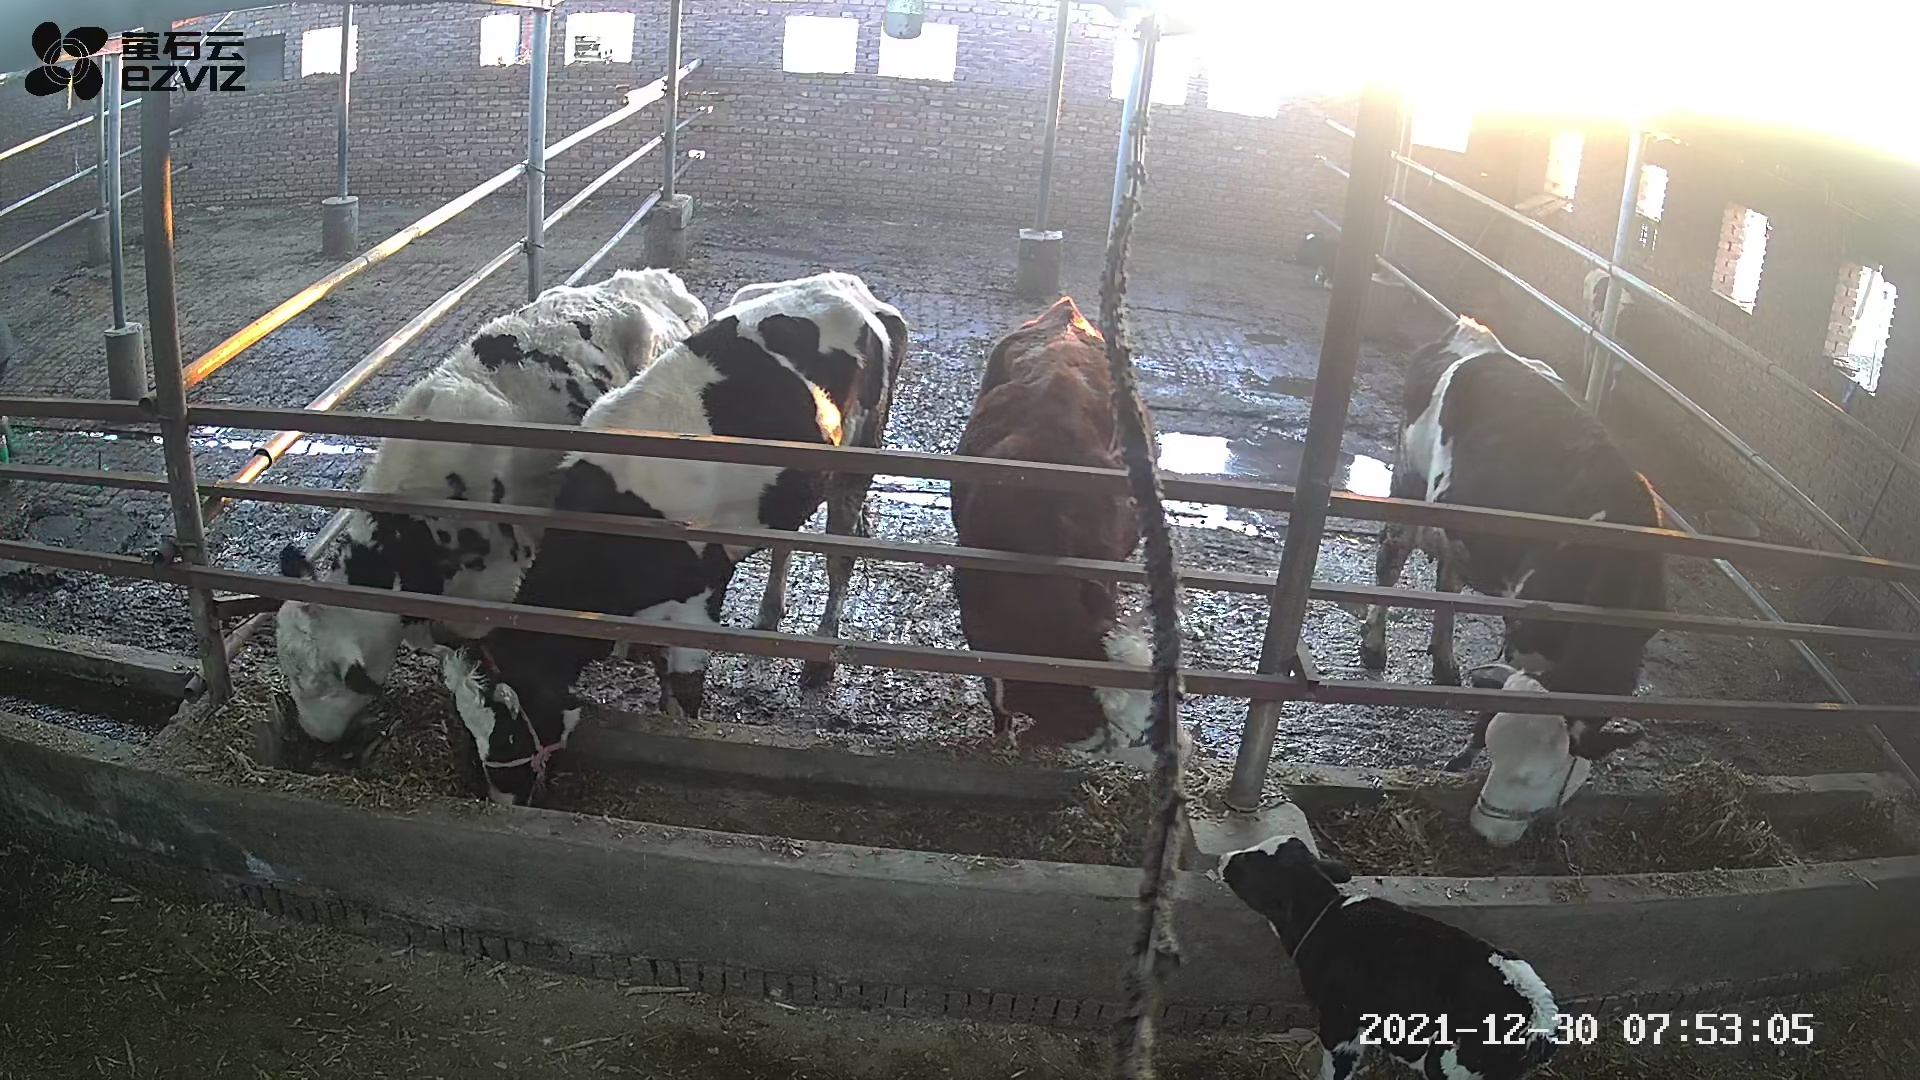cow: (413, 268, 909, 810), (273, 266, 708, 742), (1358, 313, 1667, 852), (948, 295, 1199, 778)
